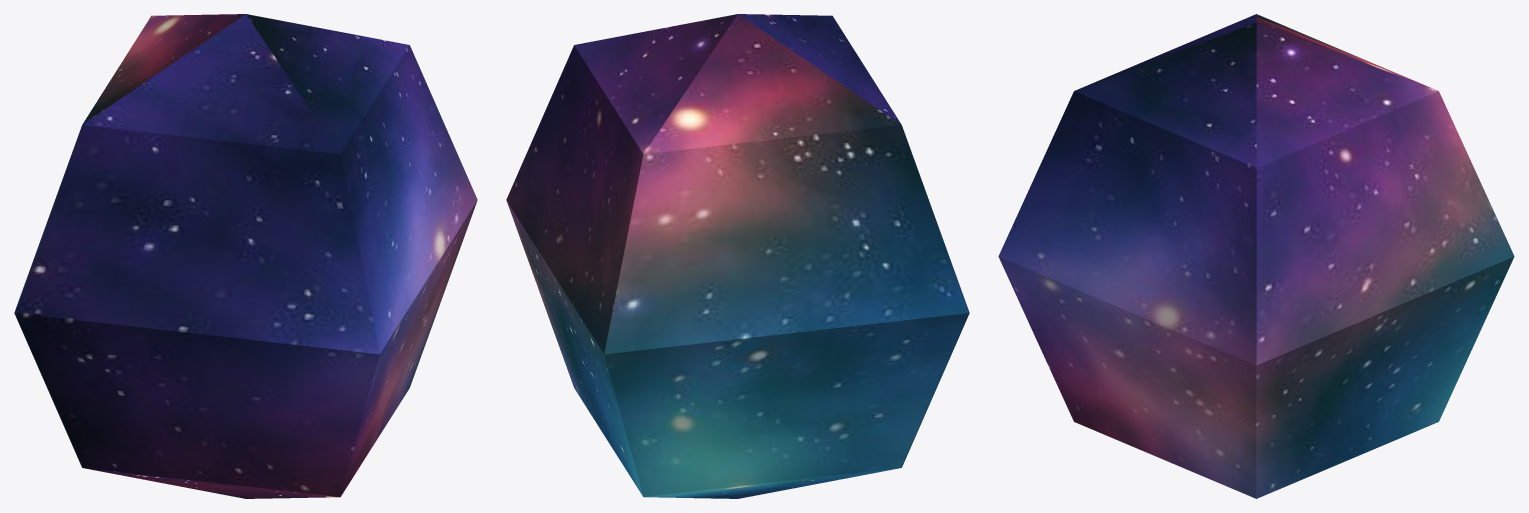
Rendered from AstralPlaneObjekt1.fbx.
The picture shows the model from 3 angles, left to right: view 1: azimuth 30°, elevation 25°; view 2: azimuth 150°, elevation 25°; view 3: azimuth 270°, elevation 25°; orthographic projection. The views are drawn at different scales.
Visible parts, largest first — view 1: Sphere; view 2: Sphere; view 3: Sphere.
Part boxes in pixels (x1,y1,x2,y2): Sphere: [14, 14, 477, 498]; Sphere: [506, 14, 969, 498]; Sphere: [998, 14, 1514, 498].
Size of the model in its own units: 200 by 200 by 200.
